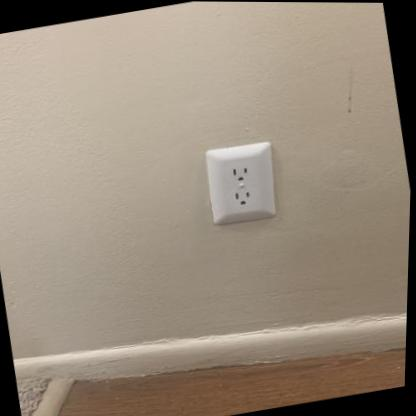OUTLET: (197, 138, 284, 229)
